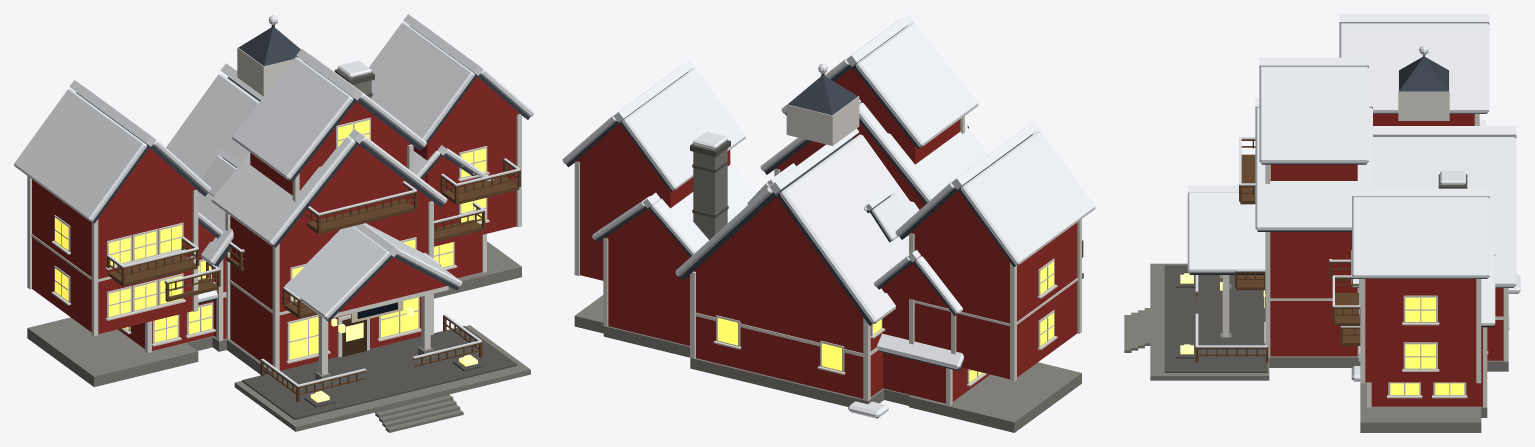
Rendered from lodge-tier-3.glb.
The picture shows the model from 3 angles, left to right: view 1: azimuth 30°, elevation 25°; view 2: azimuth 150°, elevation 25°; view 3: azimuth 270°, elevation 25°; orthographic projection. The views are drawn at different scales.
Parts seen in each view (by area): view 1: lodge-tier-3; view 2: lodge-tier-3; view 3: lodge-tier-3.
Part boxes in pixels (x1,y1,x2,y2): lodge-tier-3: [14, 14, 533, 432]; lodge-tier-3: [562, 14, 1095, 432]; lodge-tier-3: [1124, 14, 1520, 432].
Bounding box in the file's own units: 31.65 × 19.83 × 24.6.
